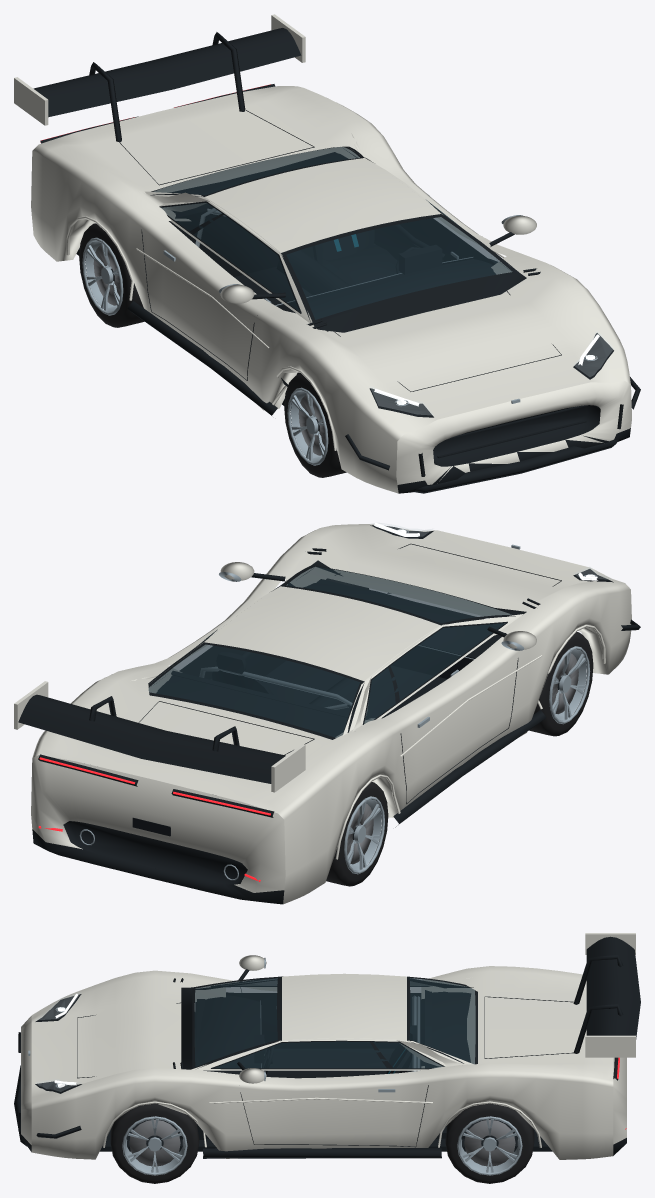
The model's file is gtx-lod1.glb.
The picture shows the model from 3 angles, top to bottom: view 1: azimuth 30°, elevation 25°; view 2: azimuth 150°, elevation 25°; view 3: azimuth 270°, elevation 25°; orthographic projection. The views are drawn at different scales.
Visible parts, largest first — view 1: sculpted-coachwork_merged, carbon-rear-valance_merged, panoramic-windscreen_merged, rim-barrel_merged (×2), profiled-tire (×2), ventilated-brake-rotor (×2), headlamp-clear-lens_merged; view 2: sculpted-coachwork_merged, carbon-rear-valance_merged, panoramic-windscreen_merged, rim-barrel_merged (×2), profiled-tire (×2), door-release_merged, ventilated-brake-rotor (×2), rear-light-guide_merged; view 3: sculpted-coachwork_merged, carbon-rear-valance_merged, panoramic-windscreen_merged, profiled-tire (×2), rim-barrel_merged (×2), ventilated-brake-rotor (×2), headlamp-clear-lens_merged, door-release_merged.
Boxes of the visible parts, left/top/right/bottom form: sculpted-coachwork_merged: left=14, top=14, right=631, bottom=493; carbon-rear-valance_merged: left=33, top=28, right=640, bottom=493; panoramic-windscreen_merged: left=153, top=147, right=512, bottom=319; rim-barrel_merged (×2): left=82, top=237, right=328, bottom=465; profiled-tire (×2): left=79, top=223, right=346, bottom=477; ventilated-brake-rotor (×2): left=93, top=245, right=325, bottom=455; headlamp-clear-lens_merged: left=370, top=331, right=613, bottom=414; sculpted-coachwork_merged: left=14, top=524, right=631, bottom=904; carbon-rear-valance_merged: left=18, top=525, right=640, bottom=904; panoramic-windscreen_merged: left=148, top=566, right=511, bottom=737; rim-barrel_merged (×2): left=344, top=646, right=590, bottom=874; profiled-tire (×2): left=326, top=631, right=593, bottom=886; door-release_merged: left=79, top=529, right=597, bottom=880; ventilated-brake-rotor (×2): left=347, top=653, right=578, bottom=864; rear-light-guide_merged: left=38, top=757, right=270, bottom=881; sculpted-coachwork_merged: left=21, top=933, right=635, bottom=1159; carbon-rear-valance_merged: left=14, top=936, right=640, bottom=1158; panoramic-windscreen_merged: left=194, top=978, right=475, bottom=1068; profiled-tire (×2): left=110, top=1103, right=534, bottom=1183; rim-barrel_merged (×2): left=122, top=1116, right=522, bottom=1175; ventilated-brake-rotor (×2): left=129, top=1119, right=515, bottom=1166; headlamp-clear-lens_merged: left=36, top=992, right=80, bottom=1091; door-release_merged: left=28, top=958, right=419, bottom=1092.
Size of the model in its own units: 2.33 by 1.35 by 4.96.
